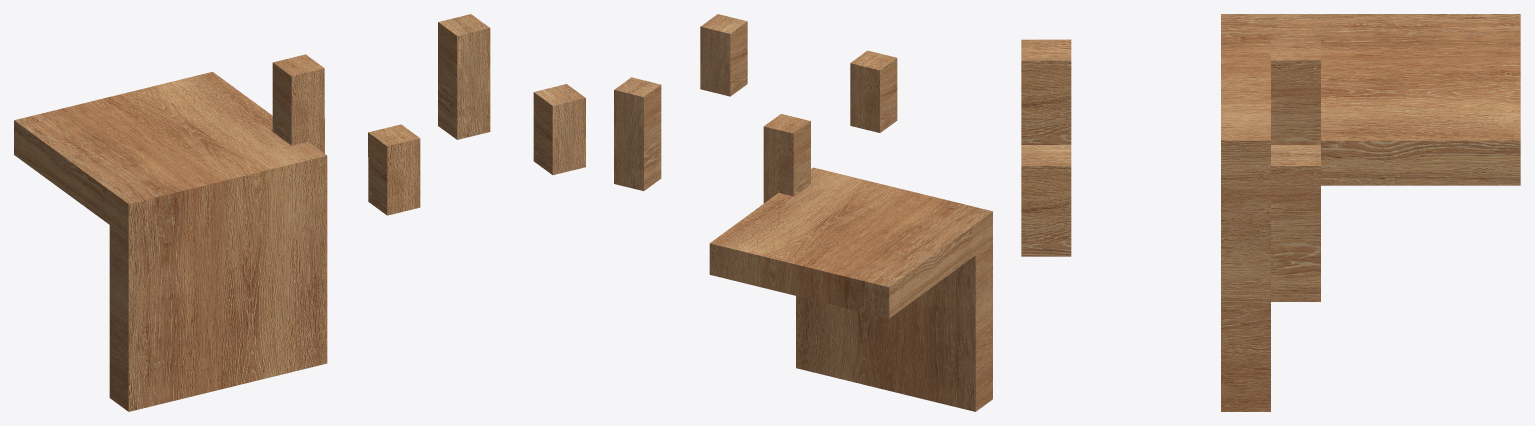
The model's file is 44650_gpt-only.glb.
The picture shows the model from 3 angles, left to right: view 1: azimuth 30°, elevation 25°; view 2: azimuth 150°, elevation 25°; view 3: azimuth 270°, elevation 25°; orthographic projection. The views are drawn at different scales.
Parts seen in each view (by area): view 1: ParentEmpty; view 2: ParentEmpty; view 3: ParentEmpty.
Boxes of the visible parts, x1,y1,x2,y2 form: ParentEmpty: (14, 14, 585, 411); ParentEmpty: (614, 14, 992, 411); ParentEmpty: (1021, 14, 1520, 411).
Bounding box in the file's own units: 1 × 0.6956 × 0.8695.
Materials: 1 (1 with a texture image).
